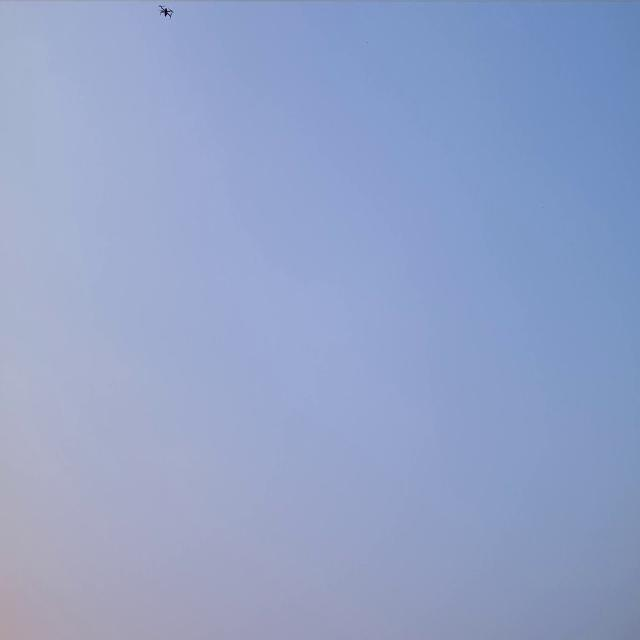UAV: (157, 3, 176, 23)
